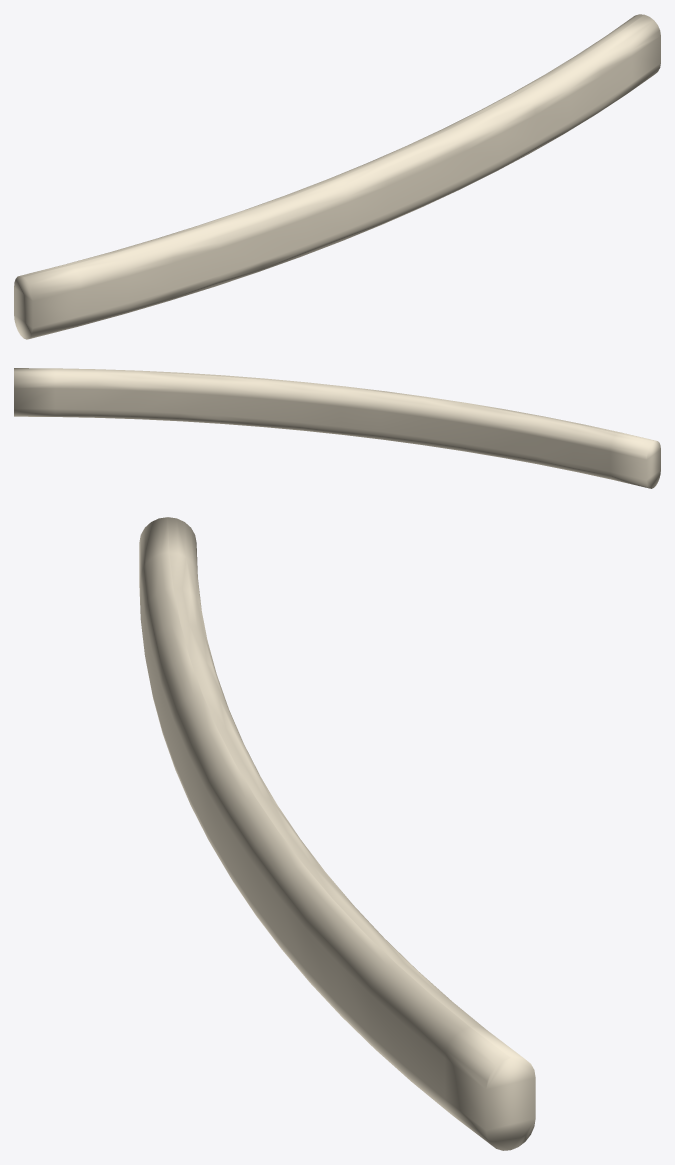
Rendered from ArcBand_R4_A30.glb.
The picture shows the model from 3 angles, top to bottom: view 1: azimuth 30°, elevation 25°; view 2: azimuth 150°, elevation 25°; view 3: azimuth 270°, elevation 25°; orthographic projection. The views are drawn at different scales.
Parts seen in each view (by area): view 1: PBK_Band.006; view 2: PBK_Band.006; view 3: PBK_Band.006.
Boxes of the visible parts, left/top/right/bottom form: PBK_Band.006: left=14, top=14, right=660, bottom=339; PBK_Band.006: left=14, top=368, right=660, bottom=488; PBK_Band.006: left=139, top=517, right=535, bottom=1150.
Bounding box in the file's own units: 2.03 × 0.16 × 0.6225.
